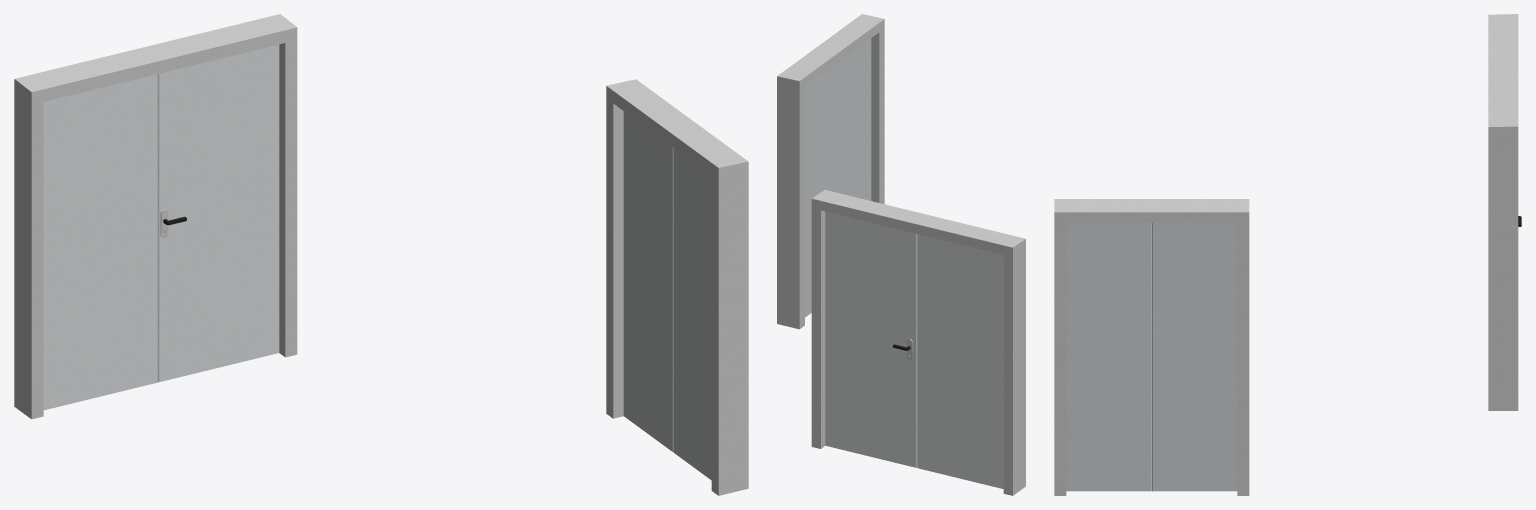
3 renders of one model, left to right at view 1: azimuth 30°, elevation 25°; view 2: azimuth 150°, elevation 25°; view 3: azimuth 270°, elevation 25°, orthographic. The views are drawn at different scales.
Visible parts, largest first — view 1: SM_门001; view 2: SM_门001; view 3: SM_门001.
Part boxes in pixels (x1,y1,x2,y2): SM_门001: (14,14,748,495); SM_门001: (777,14,1025,495); SM_门001: (1054,14,1521,495).
Size of the model in its own units: 3096 by 2079 by 3095.
